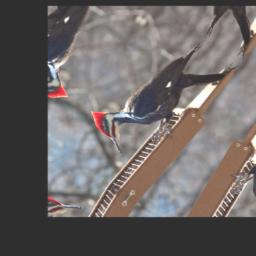Woodpecker: (78, 16, 239, 179)
